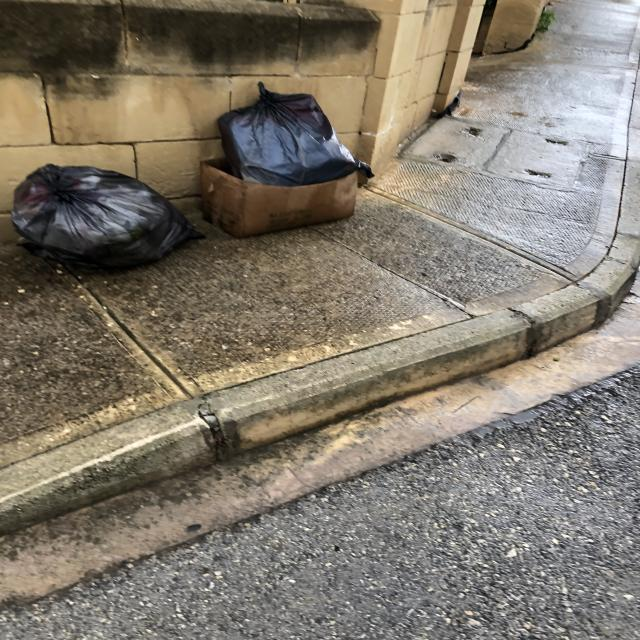Mixed Waste -Black Bag-: (14, 167, 204, 272), (216, 92, 360, 187)
